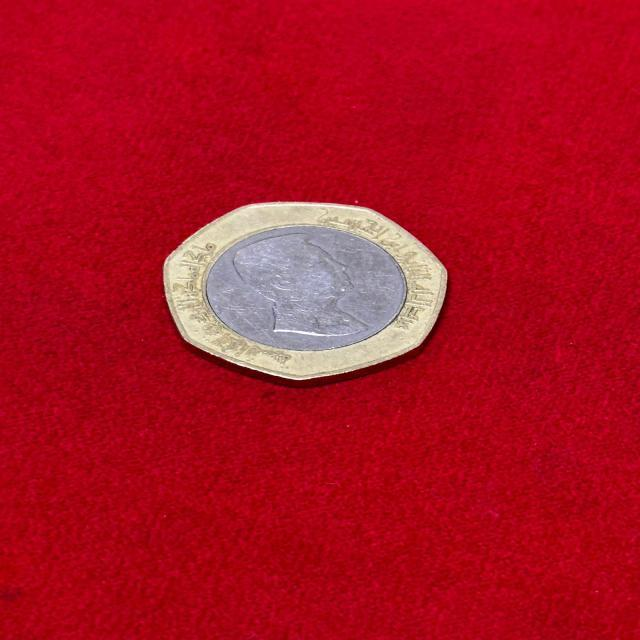50-coins: (163, 201, 449, 386)
